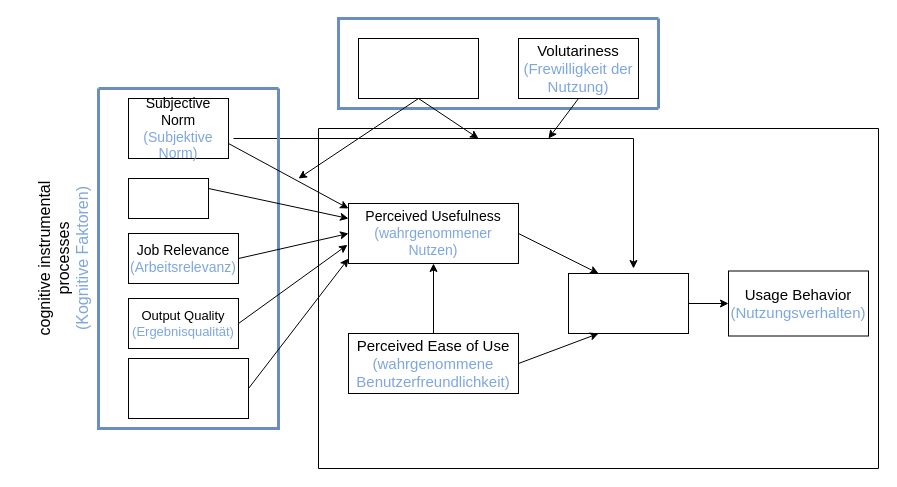
Some shapes in this 897 by 487 pixel diagram are drawn without their labels. Each missing label, with the centre of its shape:
"Experience (Erfahrung)" goes at pixel 418 68.
"Image (Image)" goes at pixel 168 198.
"Intention to Use (Intention zur Nutzung)" goes at pixel 628 303.
"Result Demonstrability (Sichtbarkeeit des Ergebnisses)" goes at pixel 188 388.
